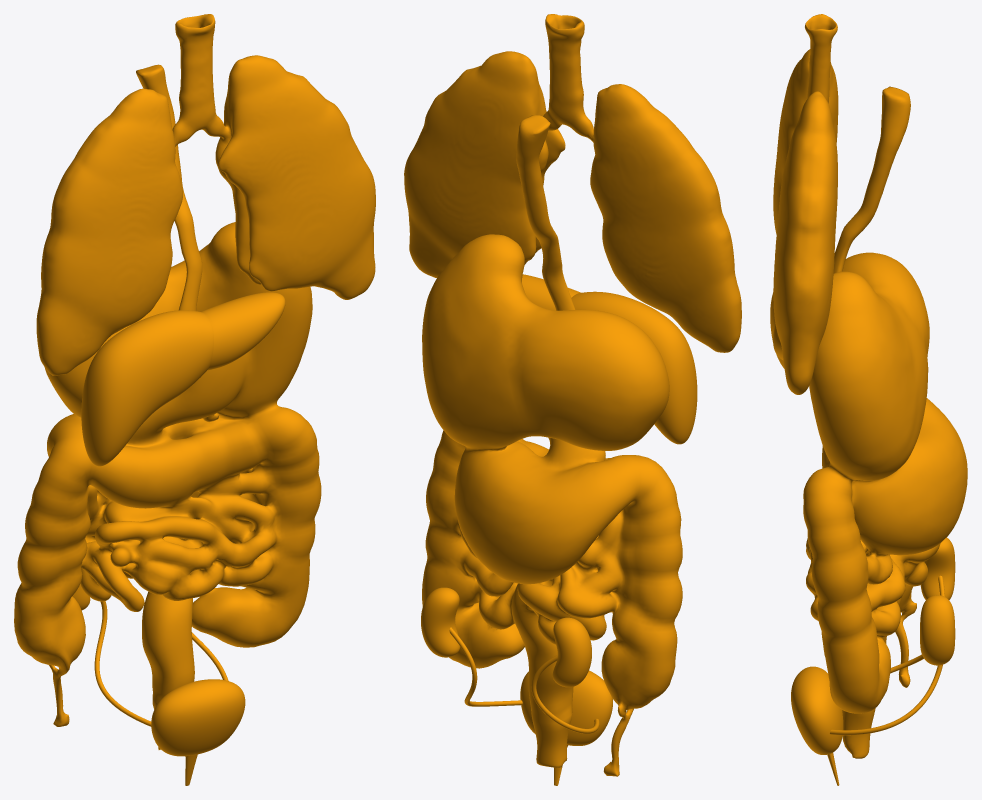
Rendered from Organos.glb.
3 renders of one model, left to right at view 1: azimuth 30°, elevation 25°; view 2: azimuth 150°, elevation 25°; view 3: azimuth 270°, elevation 25°, orthographic.
Visible parts, largest first — view 1: Digestivo, Pulmones, Higado, Rinones; view 2: Digestivo, Pulmones, Rinones, Higado; view 3: Digestivo, Pulmones, Rinones, Higado.
Boxes of the visible parts, x1,y1,x2,y2 form: Digestivo: [14, 64, 321, 749]; Pulmones: [36, 14, 375, 375]; Higado: [81, 292, 285, 466]; Rinones: [72, 584, 245, 785]; Digestivo: [422, 115, 682, 776]; Pulmones: [404, 14, 741, 352]; Rinones: [421, 587, 612, 785]; Higado: [522, 274, 697, 444]; Digestivo: [803, 86, 967, 758]; Pulmones: [773, 14, 838, 394]; Rinones: [791, 537, 955, 785]; Higado: [770, 292, 784, 368].
Size of the model in its own units: 0.3068 by 0.6764 by 0.1585.
